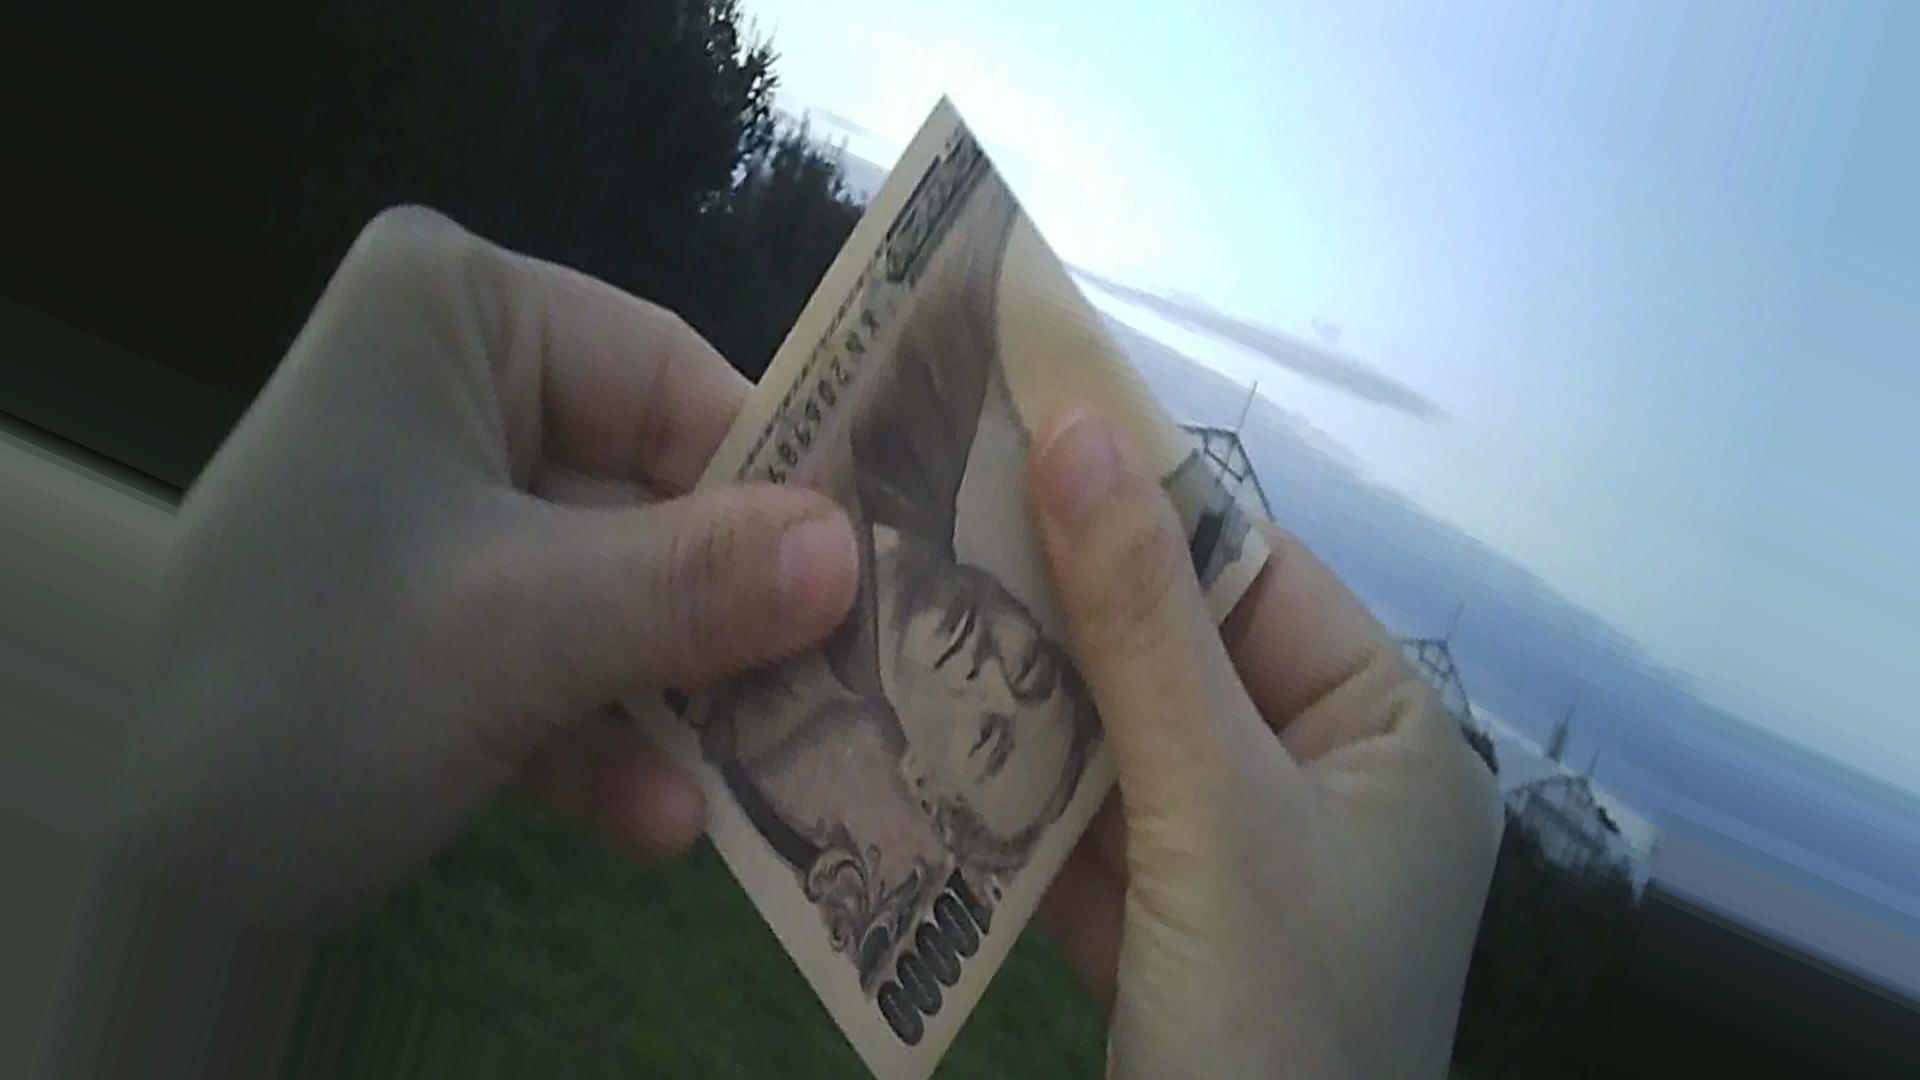10,000 Yen: (591, 98, 1247, 1079)
